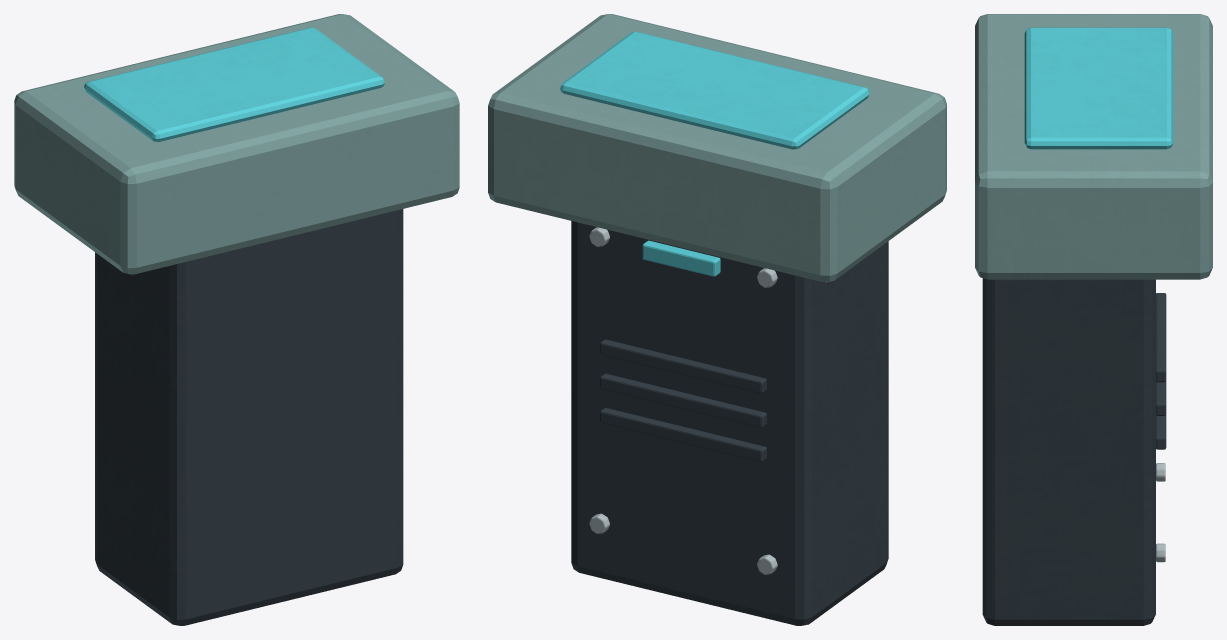
The model's file is relay_console.glb.
The picture shows the model from 3 angles, left to right: view 1: azimuth 30°, elevation 25°; view 2: azimuth 150°, elevation 25°; view 3: azimuth 270°, elevation 25°; orthographic projection. The views are drawn at different scales.
Parts seen in each view (by area): view 1: Root; view 2: Root; view 3: Root.
Part boxes in pixels (x1=…): Root: x1=14, y1=14, x2=459, y2=625; Root: x1=488, y1=14, x2=946, y2=625; Root: x1=975, y1=14, x2=1212, y2=625.
Bounding box in the file's own units: 0.8 × 1.09 × 0.48.
Materials: 1 (1 with a texture image).
